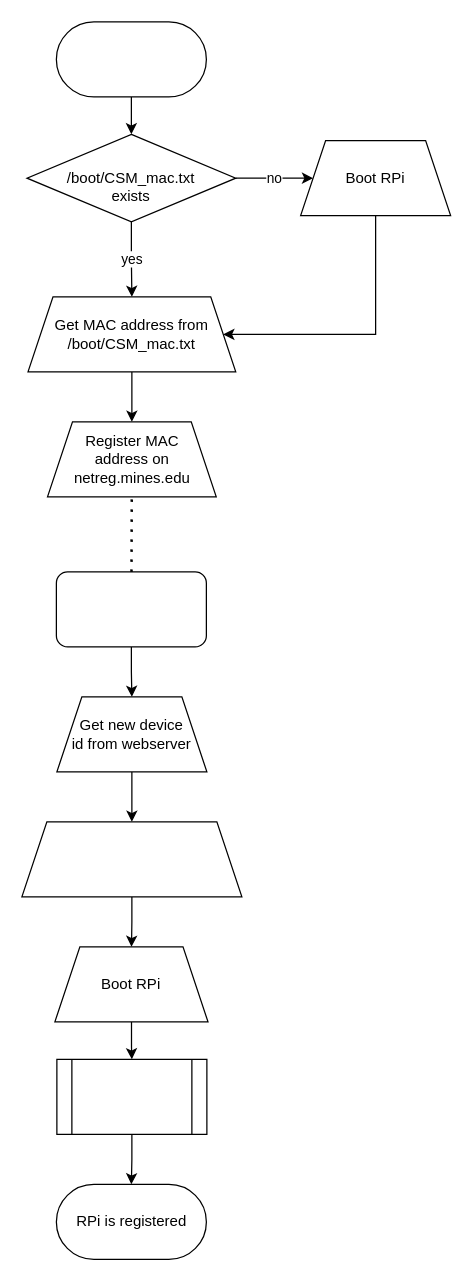
This 473x1281 diagram has some shape labels left out. The shapes that lost their labels are listed below. From the top down, each one's box as (x1, y1, x2, y2) in pixels, then its label:
(55, 21, 206, 97): RPi without registered MAC address
(55, 571, 206, 647): RPi not yet registered to IP discovery
(21, 821, 242, 897): Place in /boot/CSM_device_id.txt
(56, 1058, 207, 1134): Send status via IP discovery
